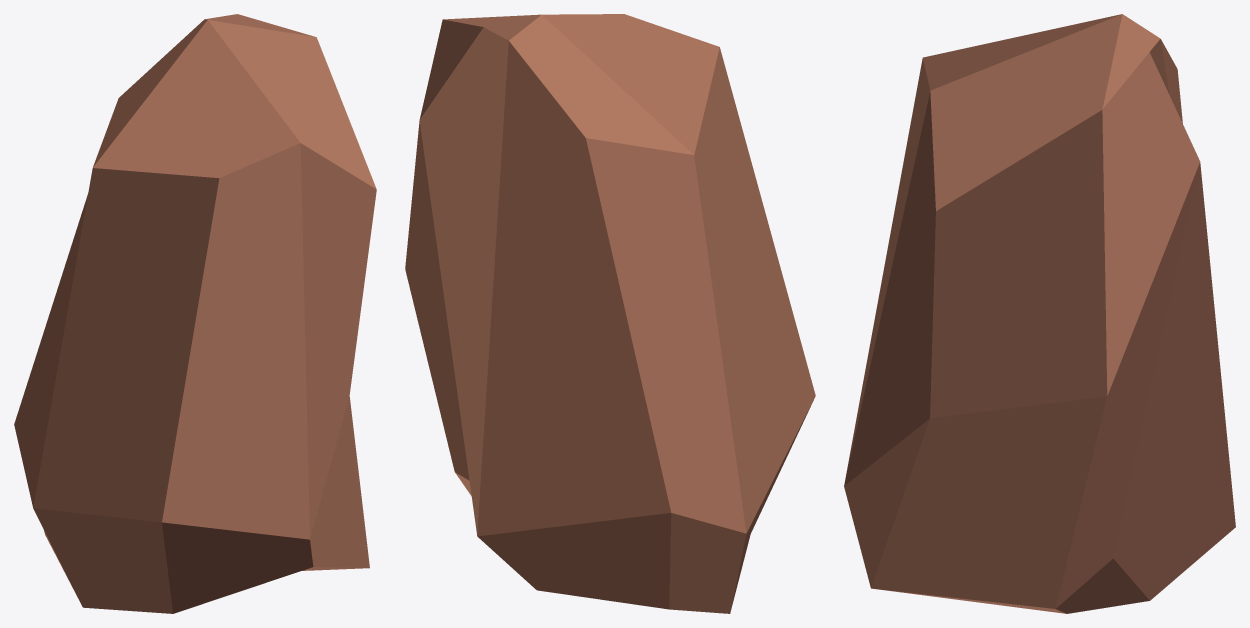
Rendered from kamien 4.fbx.
3 renders of one model, left to right at view 1: azimuth 30°, elevation 25°; view 2: azimuth 150°, elevation 25°; view 3: azimuth 270°, elevation 25°, orthographic. The views are drawn at different scales.
Parts seen in each view (by area): view 1: Cube; view 2: Cube; view 3: Cube.
Part boxes in pixels (<box>): Cube: <box>14,14,376,613</box>; Cube: <box>405,14,815,613</box>; Cube: <box>844,14,1235,613</box>.
Size of the model in its own units: 230 by 373 by 218.
Materials: 1 (1 with a texture image).
